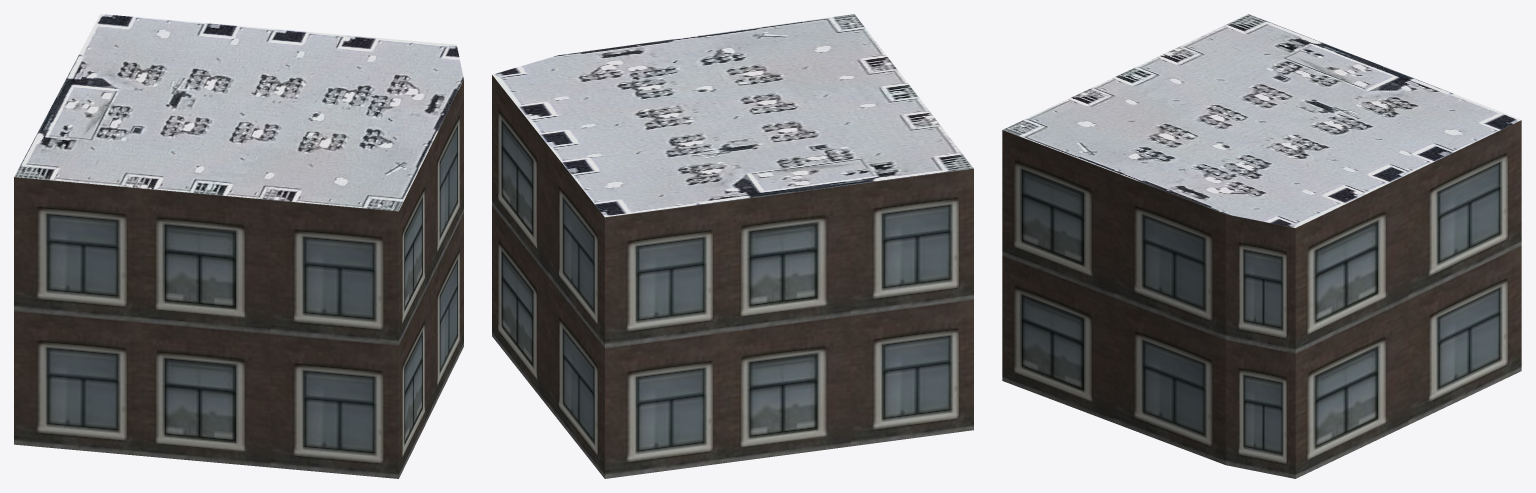
The model's file is ResTex__442.fbx.
3 views of the same model, side by side, from view 1: azimuth 30°, elevation 25°; view 2: azimuth 150°, elevation 25°; view 3: azimuth 270°, elevation 25° (orthographic). The views are drawn at different scales.
Parts seen in each view (by area): view 1: CityEngineMaterial_16_m, CityEngineMaterial_15_m; view 2: CityEngineMaterial_16_m, CityEngineMaterial_15_m; view 3: CityEngineMaterial_16_m, CityEngineMaterial_15_m.
Part boxes in pixels (x1,y1,x2,y2): CityEngineMaterial_16_m: (14,79,463,478); CityEngineMaterial_15_m: (14,14,463,211); CityEngineMaterial_16_m: (492,75,973,478); CityEngineMaterial_15_m: (492,14,973,217); CityEngineMaterial_16_m: (1002,120,1521,478); CityEngineMaterial_15_m: (1003,14,1521,227).
Bounding box in the file's own units: 10.97 × 6 × 11.25.
Materials: 2 (2 with a texture image).
